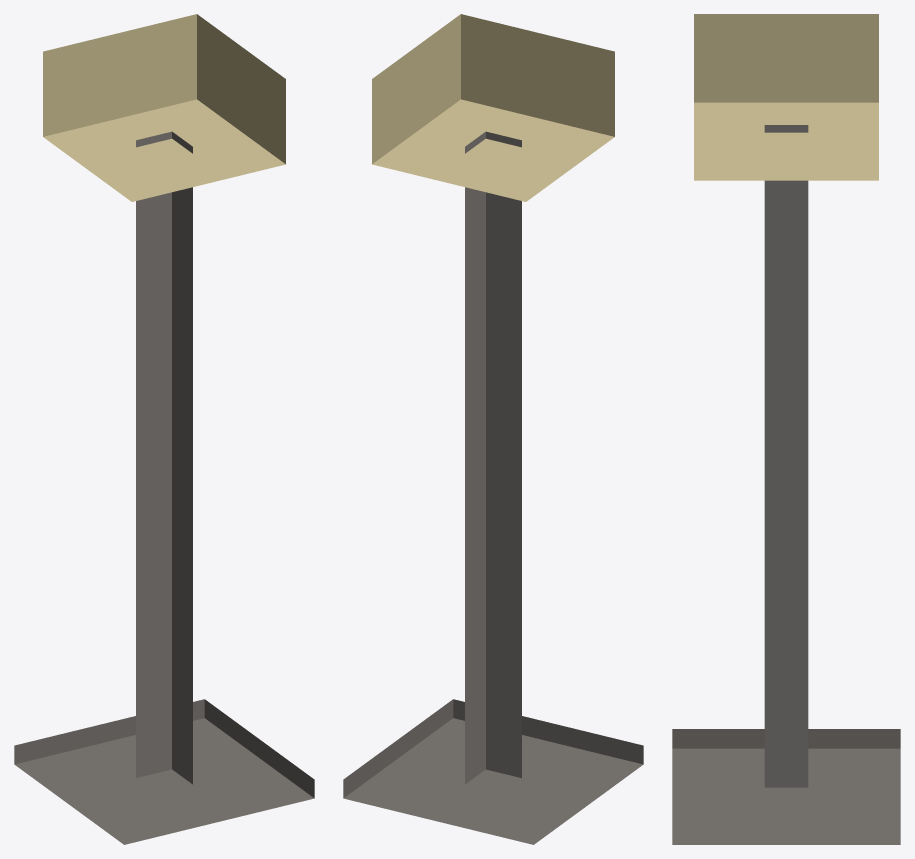
The model's file is floor_lamp.gltf.
3 renders of one model, left to right at view 1: azimuth 30°, elevation 25°; view 2: azimuth 150°, elevation 25°; view 3: azimuth 270°, elevation 25°, orthographic. The views are drawn at different scales.
Parts seen in each view (by area): view 1: floor_lamp; view 2: floor_lamp; view 3: floor_lamp.
Part boxes in pixels (<box>): floor_lamp: <box>14,14,314,844</box>; floor_lamp: <box>343,14,643,844</box>; floor_lamp: <box>672,14,900,844</box>.
Bounding box in the file's own units: 0.42 × 1.51 × 0.42.
